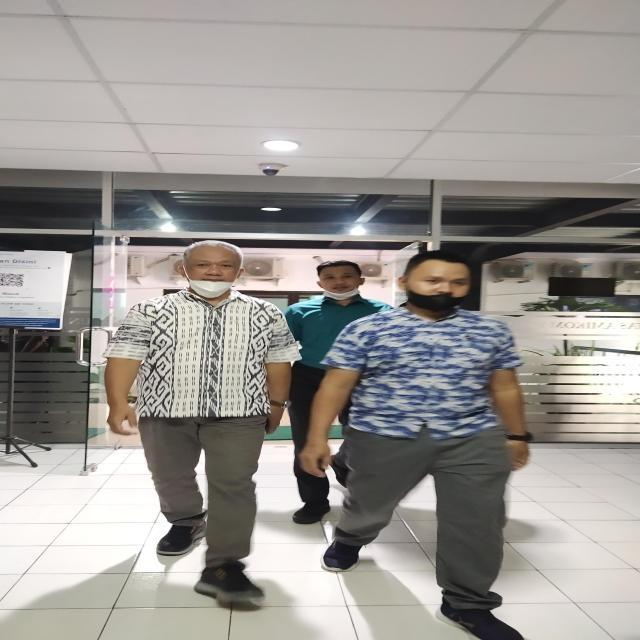hairnet: (392, 248, 483, 314), (172, 238, 246, 301), (310, 258, 368, 302)
